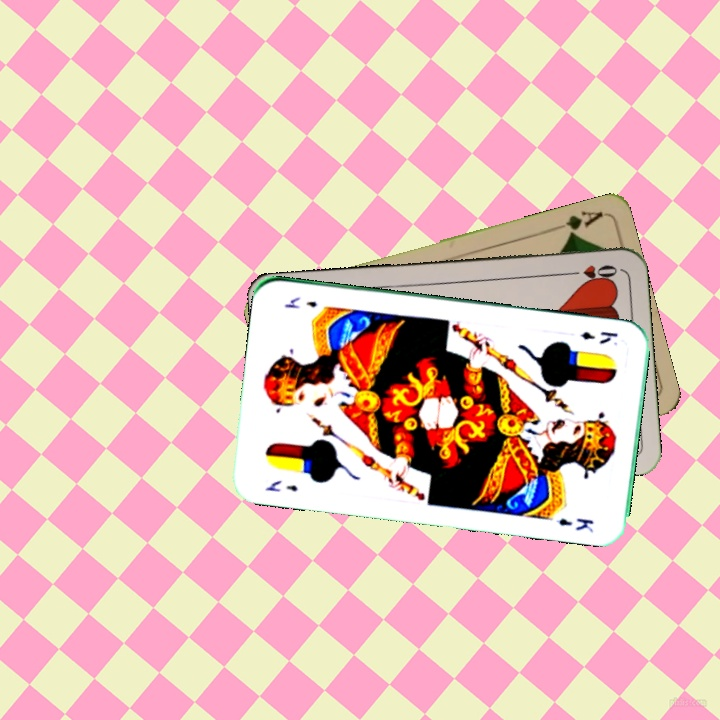EK: (577, 327, 621, 347), (261, 476, 301, 494)
GA: (547, 207, 605, 240)
HO: (562, 261, 620, 284)
